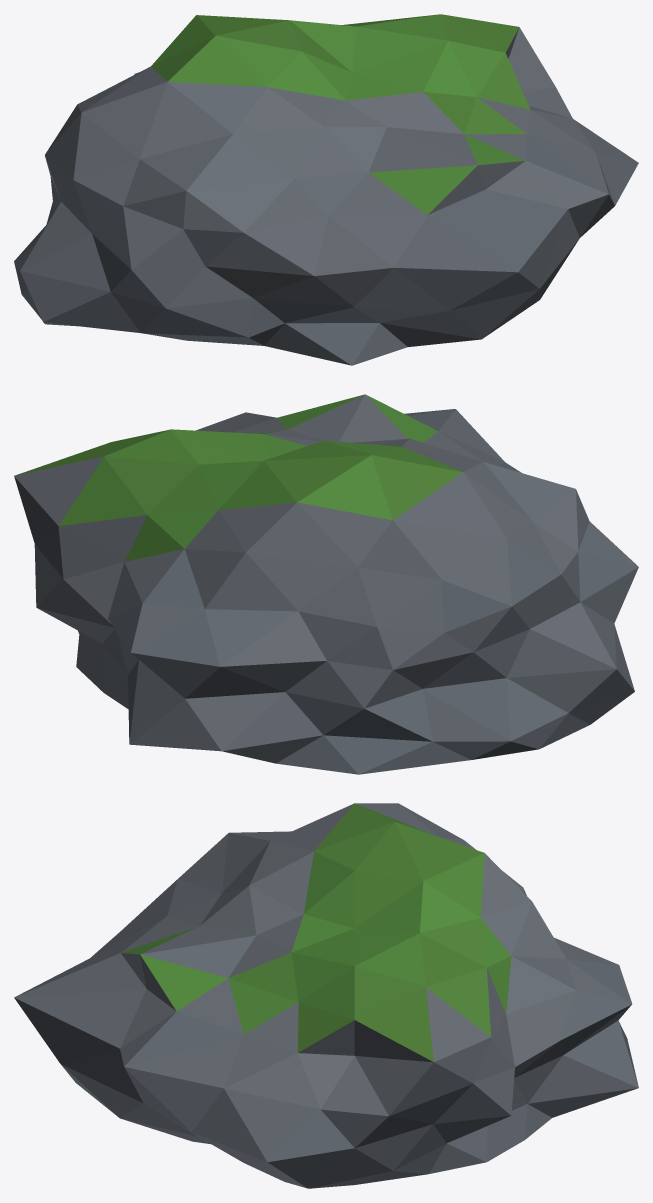
The model's file is rock-1.glb.
3 views of the same model, one above another, from view 1: azimuth 30°, elevation 25°; view 2: azimuth 150°, elevation 25°; view 3: azimuth 270°, elevation 25° (orthographic). The views are drawn at different scales.
Visible parts, largest first — view 1: rock-1; view 2: rock-1; view 3: rock-1.
Part boxes in pixels (<box>): rock-1: <box>14,14,638,365</box>; rock-1: <box>14,394,638,774</box>; rock-1: <box>14,803,638,1188</box>.
Bounding box in the file's own units: 2.52 × 0.954 × 2.39.
